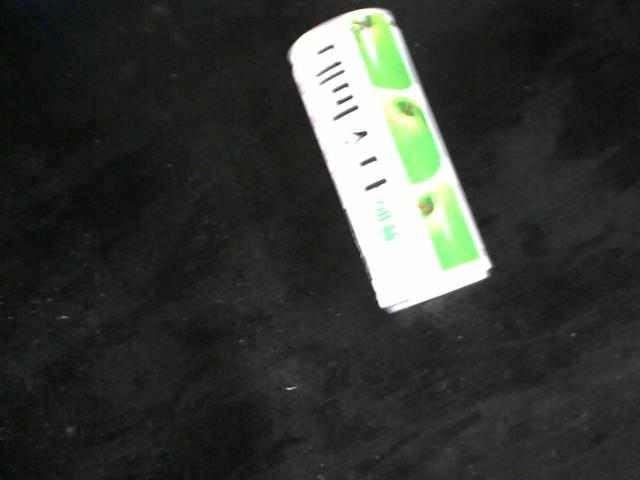can: (285, 5, 495, 317)
